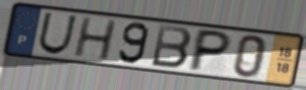0: (231, 33, 268, 79)
9: (118, 21, 152, 65)
B: (149, 23, 194, 71)
H: (71, 16, 119, 62)
P: (184, 28, 234, 73)
U: (36, 11, 80, 56)
